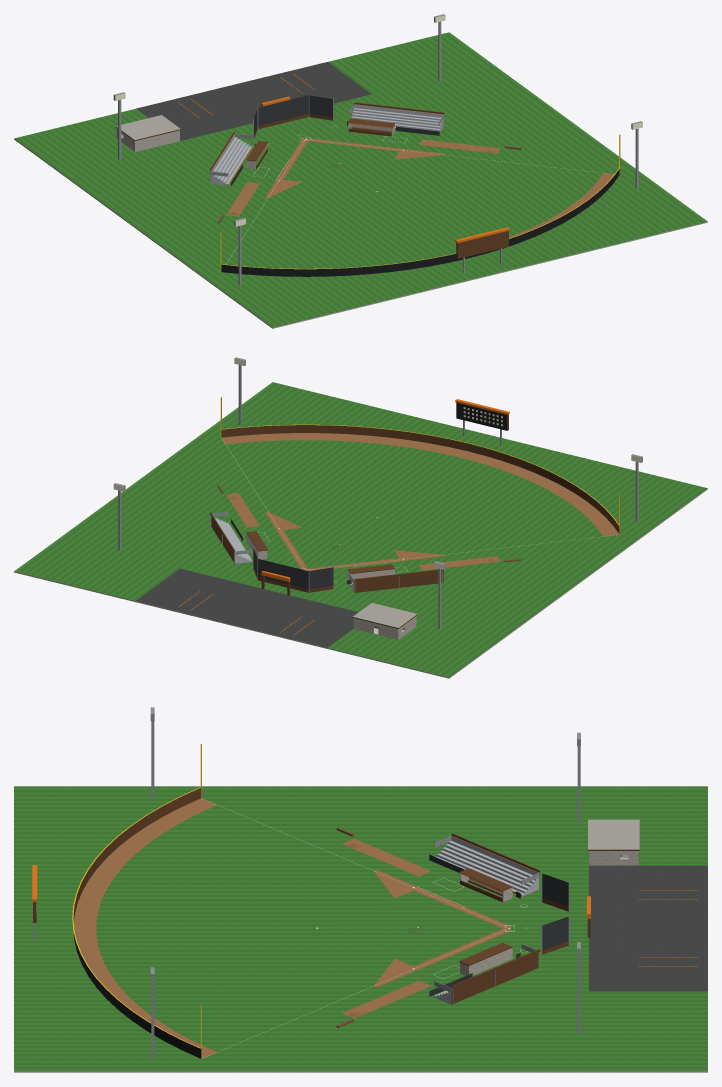
File: ballpark_1.glb
3 views of the same model, one above another, from view 1: azimuth 30°, elevation 25°; view 2: azimuth 150°, elevation 25°; view 3: azimuth 270°, elevation 25° (orthographic). The views are drawn at different scales.
Parts seen in each view (by area): view 1: ballpark_1; view 2: ballpark_1; view 3: ballpark_1.
Part boxes in pixels (x1,y1,x2,y2): ballpark_1: (14, 14, 707, 328); ballpark_1: (14, 357, 707, 678); ballpark_1: (14, 707, 707, 1072).
Size of the model in its own units: 136 by 19.9 by 140.
Materials: 17 (17 with a texture image).
